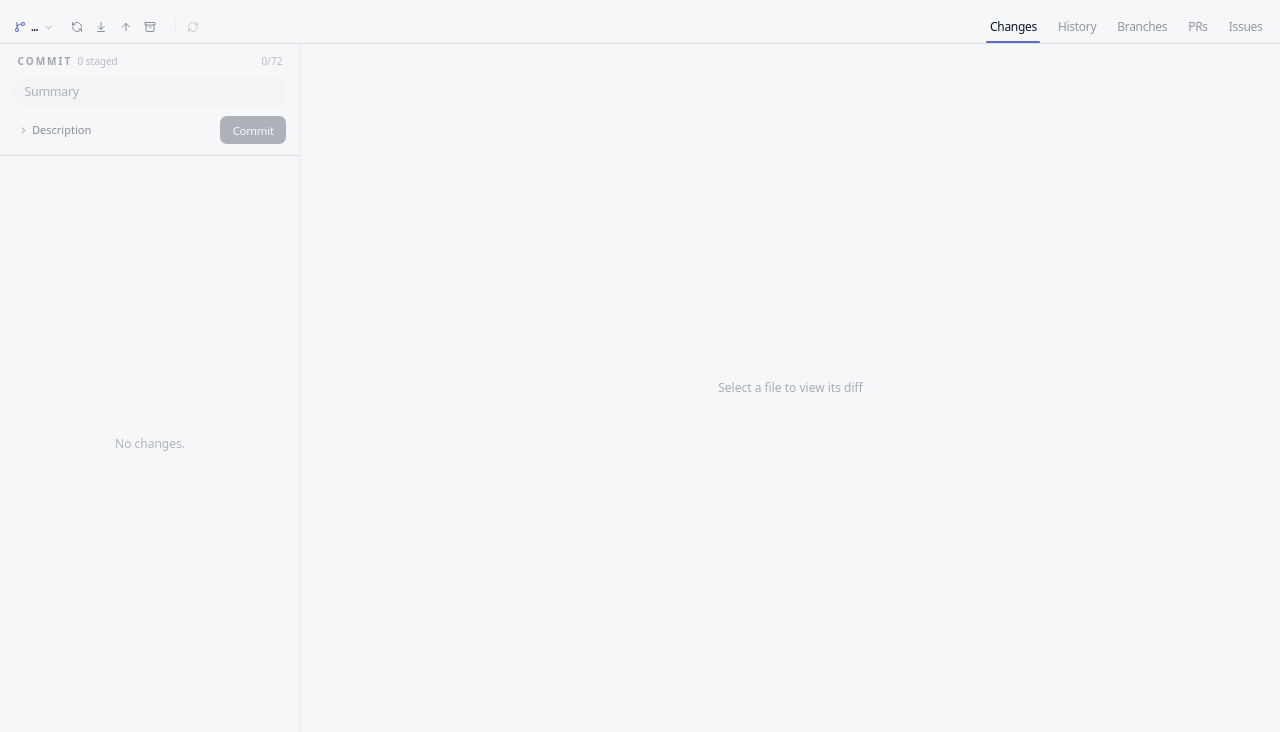
Test case: GitTab › switches to PRs tab when clicked
Click the button "PRs" at (1198, 27), box [1178,12,1218,43]
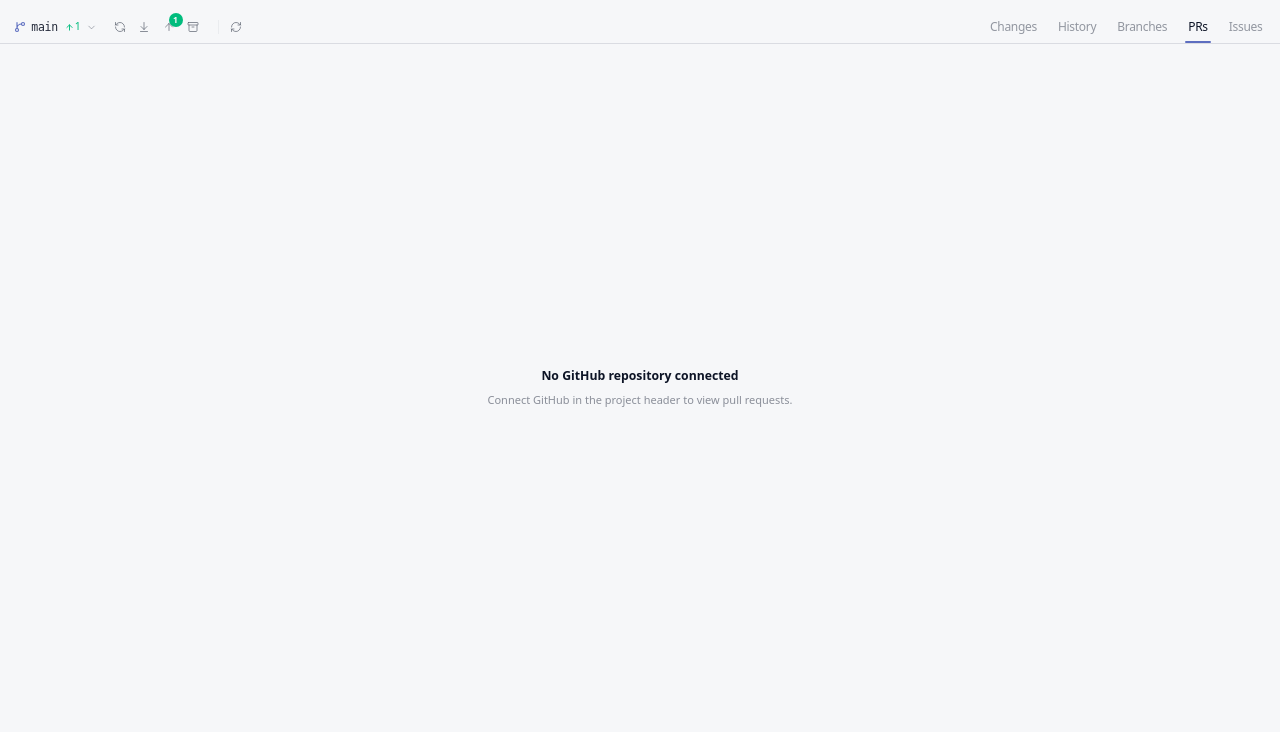
Result: the text "No GitHub repository connected" is shown at [541,367,739,384]
